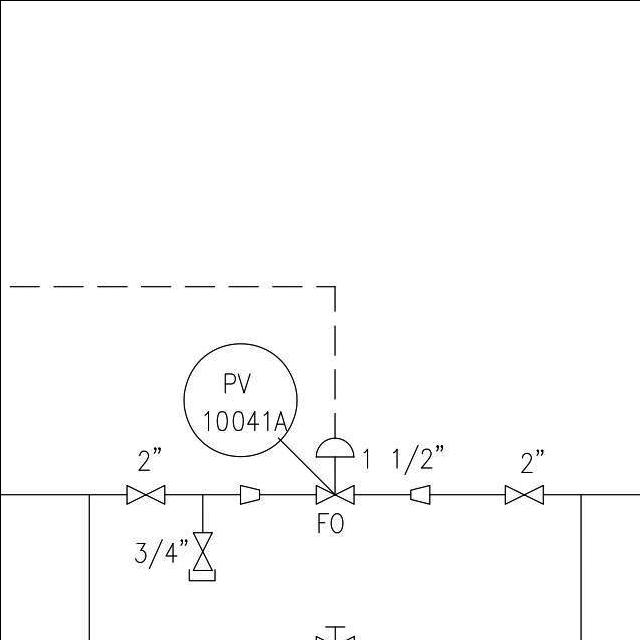EC: (183, 512, 222, 586)
FC: (311, 432, 357, 508)
GV: (499, 480, 546, 510), (119, 481, 170, 507), (189, 526, 215, 574)
SP: (406, 481, 435, 507), (234, 481, 262, 505)
